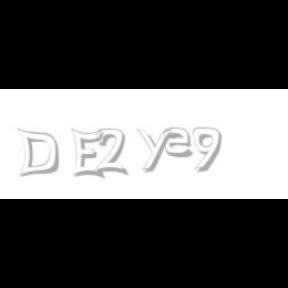2: (93, 128, 127, 176)
9: (192, 128, 222, 172)
D: (16, 128, 60, 178)
E: (72, 128, 105, 180)
e: (164, 128, 198, 158)
y: (136, 128, 176, 172)
